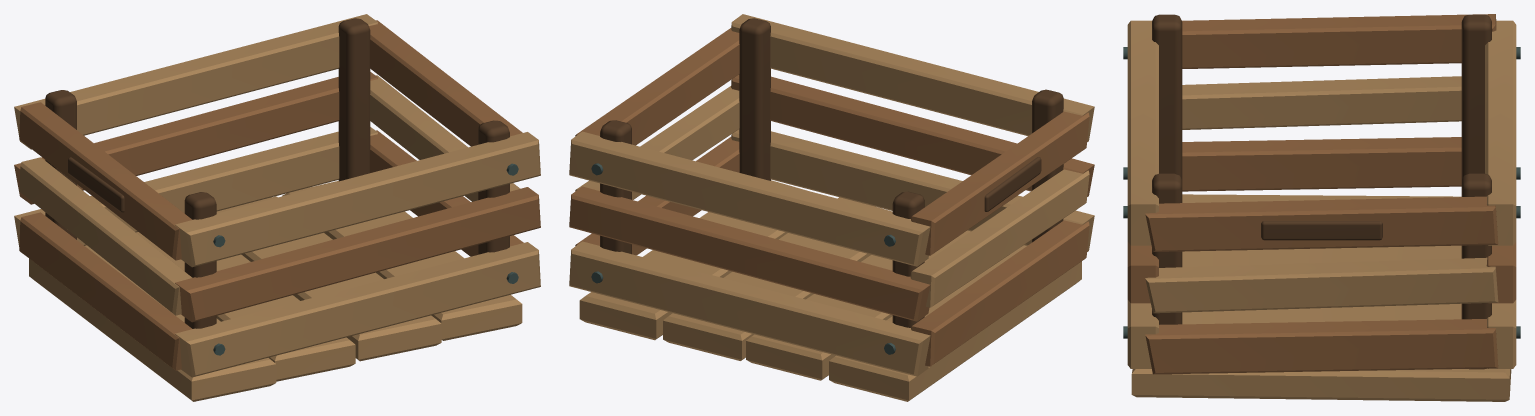
The model's file is cajon.glb.
3 renders of one model, left to right at view 1: azimuth 30°, elevation 25°; view 2: azimuth 150°, elevation 25°; view 3: azimuth 270°, elevation 25°, orthographic. The views are drawn at different scales.
Parts seen in each view (by area): view 1: cajon; view 2: cajon; view 3: cajon.
Boxes of the visible parts, left/top/right/bottom form: cajon: left=14, top=14, right=540, bottom=401; cajon: left=569, top=14, right=1094, bottom=401; cajon: left=1123, top=14, right=1520, bottom=401.
Size of the model in its own units: 0.851 by 0.43 by 0.718.
